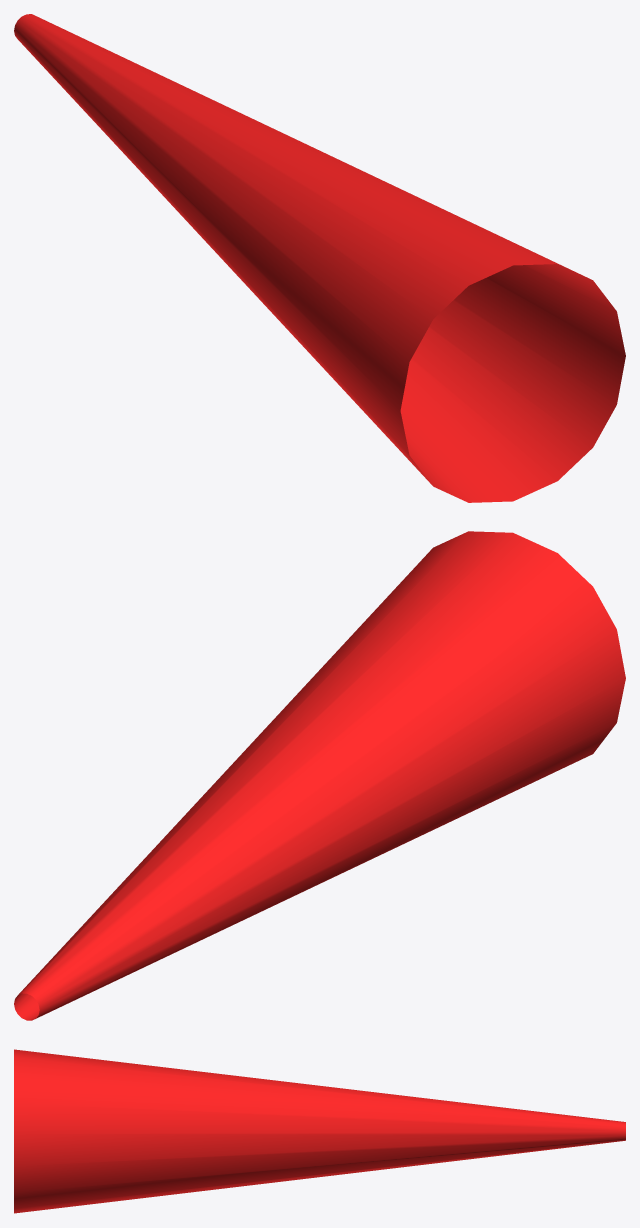
The model's file is LightBeam02.FBX.
The picture shows the model from 3 angles, top to bottom: view 1: azimuth 30°, elevation 25°; view 2: azimuth 150°, elevation 25°; view 3: azimuth 270°, elevation 25°; orthographic projection. The views are drawn at different scales.
Parts seen in each view (by area): view 1: LightBeam02; view 2: LightBeam02; view 3: LightBeam02.
Part boxes in pixels (left/top/right/bottom): LightBeam02: left=14, top=14, right=625, bottom=502; LightBeam02: left=14, top=531, right=625, bottom=1020; LightBeam02: left=14, top=1049, right=625, bottom=1213.
Bounding box in the file's own units: 121 × 121 × 450.
